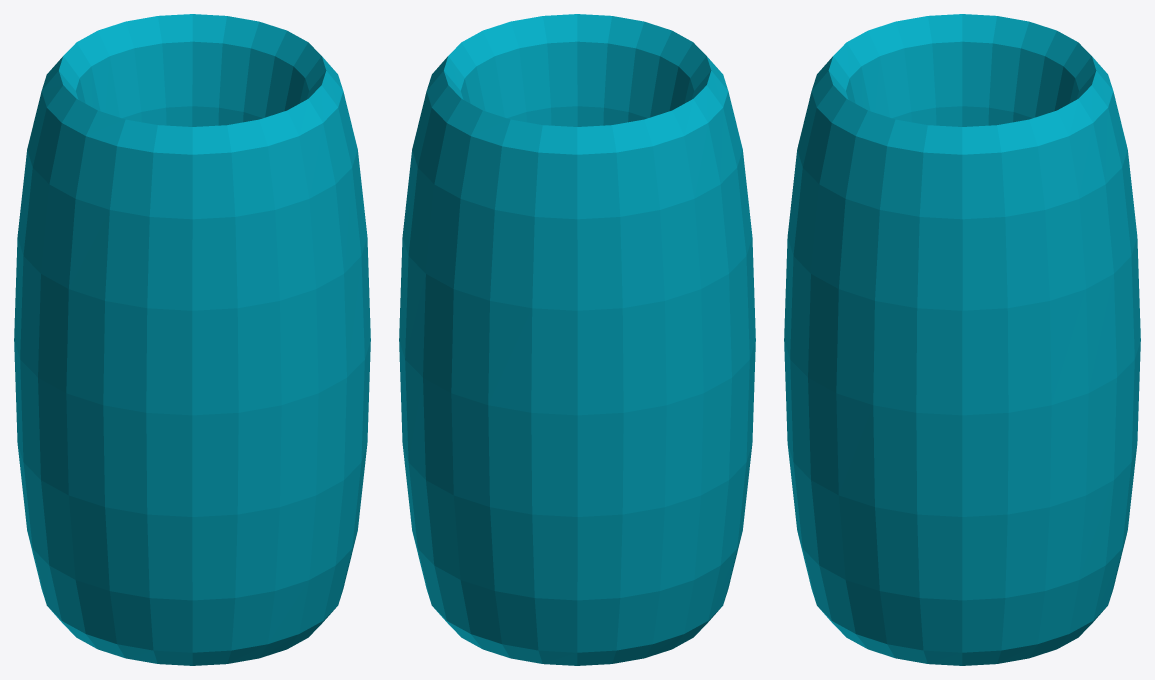
The picture shows the model from 3 angles, left to right: view 1: azimuth 30°, elevation 25°; view 2: azimuth 150°, elevation 25°; view 3: azimuth 270°, elevation 25°; orthographic projection.
Visible parts, largest first — view 1: Mesh_Mesh_head_geo.001_lambert2SG.001; view 2: Mesh_Mesh_head_geo.001_lambert2SG.001; view 3: Mesh_Mesh_head_geo.001_lambert2SG.001.
Boxes of the visible parts, box(x1,y1,x2,y2) form: Mesh_Mesh_head_geo.001_lambert2SG.001: box(14, 14, 370, 665); Mesh_Mesh_head_geo.001_lambert2SG.001: box(399, 14, 755, 665); Mesh_Mesh_head_geo.001_lambert2SG.001: box(784, 14, 1140, 665).
Size of the model in its own units: 3 by 5 by 3.
